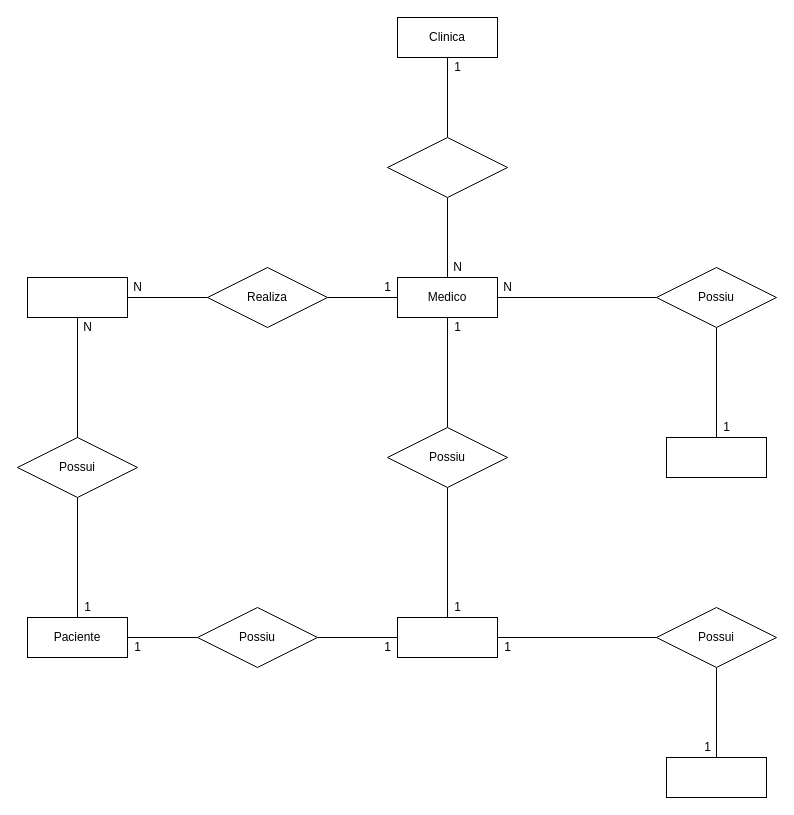
Image size: 794x815. Some labels were removed from this diagram. The centre of each missing label's shape, as x and y in pixels:
"Consulta" belongs at point 77,297.
"Especialidade" belongs at point 716,457.
"Pertence" belongs at point 447,167.
"Tipo Usuário" belongs at point 716,777.
"Usuário" belongs at point 447,637.
